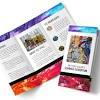paper: (0, 2, 100, 100)
